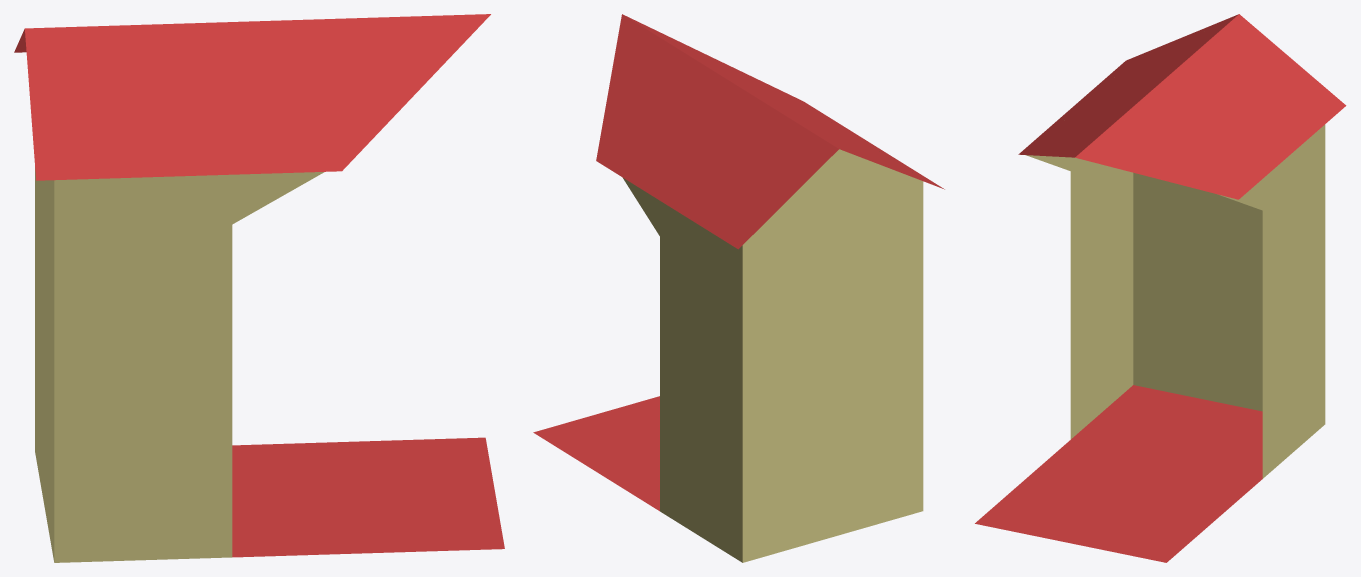
3 renders of one model, left to right at view 1: azimuth 30°, elevation 25°; view 2: azimuth 150°, elevation 25°; view 3: azimuth 270°, elevation 25°, orthographic. The views are drawn at different scales.
Bounding box in the file's own units: 13.98 × 11.76 × 13.44.
